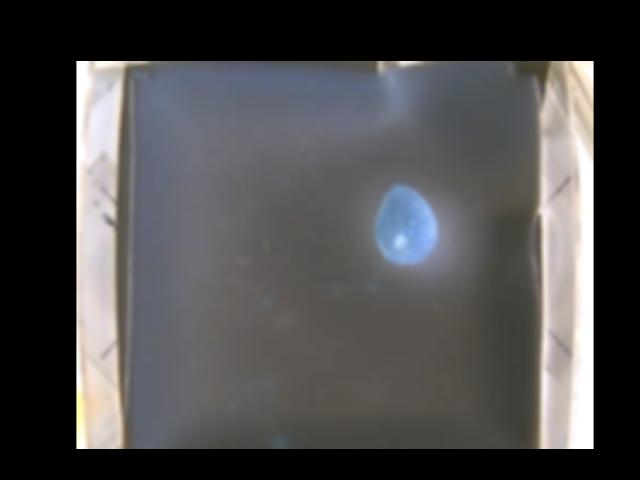Potato: (375, 185, 436, 264)
